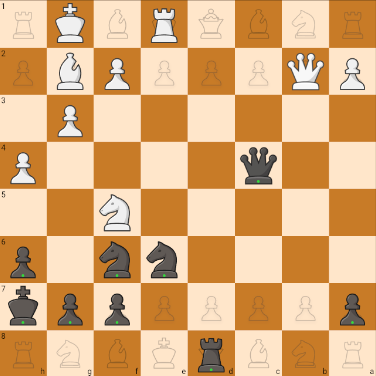bk: (1, 284, 46, 329)
bn: (93, 236, 140, 283), (141, 237, 187, 281)
bp: (0, 236, 46, 282), (47, 284, 93, 329), (95, 284, 139, 329), (331, 285, 375, 330)
bq: (236, 143, 282, 189)
br: (188, 331, 234, 376)
wb: (47, 48, 94, 95)
wk: (48, 1, 94, 47)
wn: (93, 189, 140, 235)
wp: (329, 47, 375, 94), (95, 48, 140, 95), (1, 143, 46, 189), (47, 96, 93, 141)
wq: (283, 48, 328, 94)
wr: (141, 0, 187, 47)
